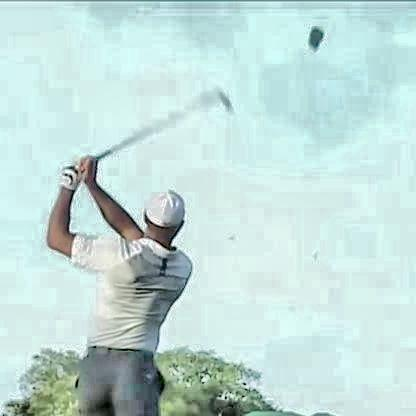golfball: (309, 251, 319, 258)
